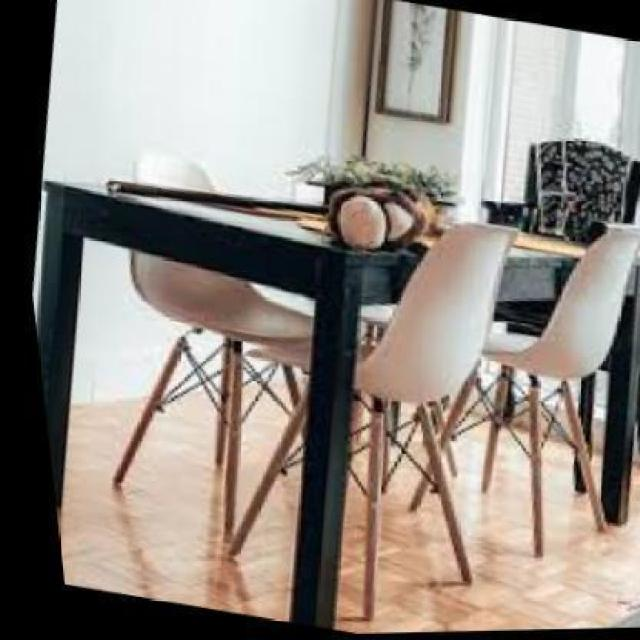tables: (32, 177, 638, 629)
